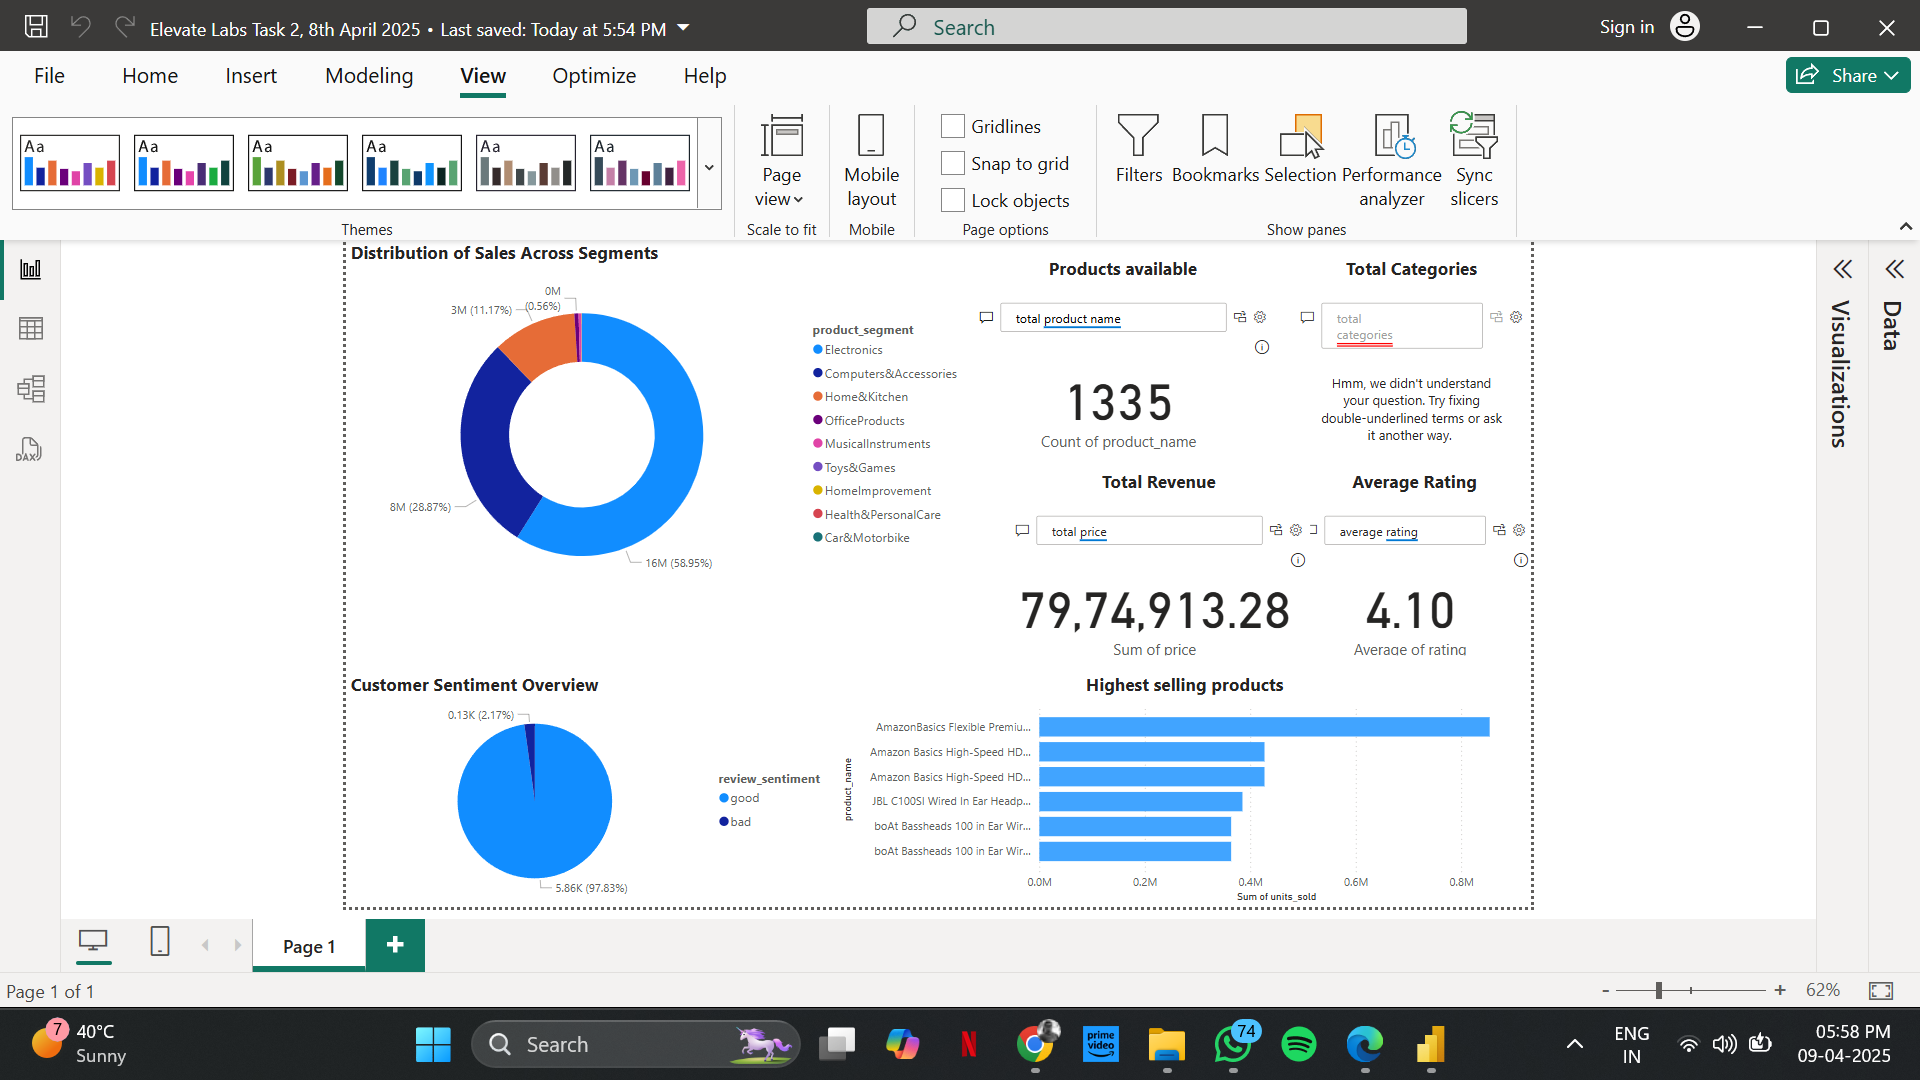

This screenshot's page, from the dashboard's own definition file:
{"tool":"powerbi","page":{"name":"Page 1","canvas":[1280,720],"ordinal":0},"visuals":[{"type":"qnaVisual","title":"Total Categories","box":[1022.4,17,257,230.6],"z":0},{"type":"qnaVisual","title":"Products available","box":[674.7,17,326.9,230.6],"z":1},{"type":"qnaVisual","title":"Average Rating","box":[1024.3,247.6,257,219.2],"z":2},{"type":"qnaVisual","title":"Total Revenue","box":[714.3,247.6,326.9,219.2],"z":3},{"type":"barChart","title":"Highest selling products","fields":{"Category":["AMAZON SALES DATA.product_name"],"Y":["Sum(AMAZON SALES DATA.units_sold)"]},"box":[531,466.8,748.4,253.2],"z":4},{"type":"donutChart","title":"Distribution of Sales Across Segments","fields":{"Category":["AMAZON SALES DATA.category"],"Y":["Sum(AMAZON SALES DATA.units_sold)"]},"box":[0,0,674.7,395],"z":5},{"type":"pieChart","title":"Customer Sentiment Overview","fields":{"Category":["AMAZON SALES DATA.review_sentiment"],"Y":["Sum(AMAZON SALES DATA.rating)"]},"box":[0,466.8,531,253.2],"z":6}]}

Visuals, with their boxes on the page's 1280x720 design canvas (x1, y1, x2, y2). These are canvas units, not pixel positions in the 1920x1080 screenshot, which may show the page scaled, cropped or inside an application window:
"Total Categories" qnaVisual: 1022 17 1279 248
"Products available" qnaVisual: 675 17 1002 248
"Average Rating" qnaVisual: 1024 248 1281 467
"Total Revenue" qnaVisual: 714 248 1041 467
"Highest selling products" barChart: 531 467 1279 720
"Distribution of Sales Across Segments" donutChart: 0 0 675 395
"Customer Sentiment Overview" pieChart: 0 467 531 720
